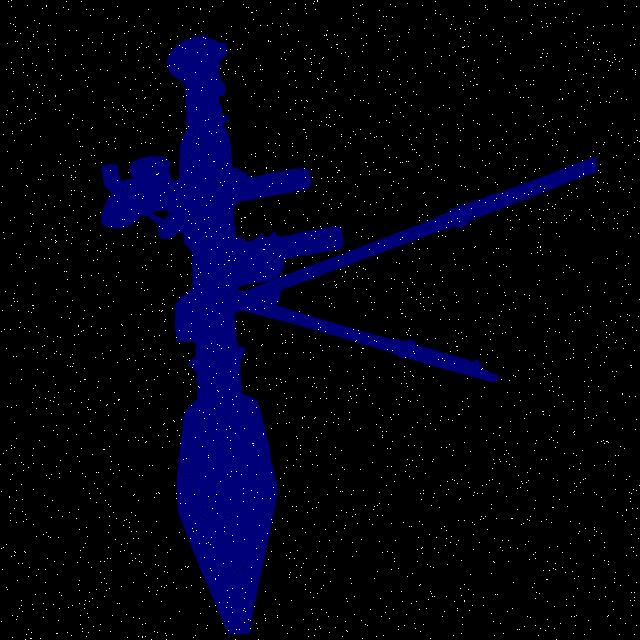grenade: (144, 358, 330, 637)
rocket: (60, 0, 638, 466)
